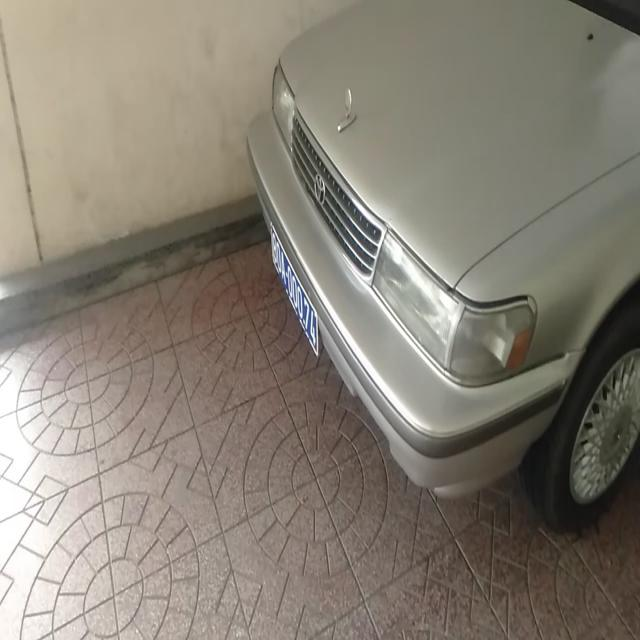bien_xanh: (267, 224, 320, 360)
